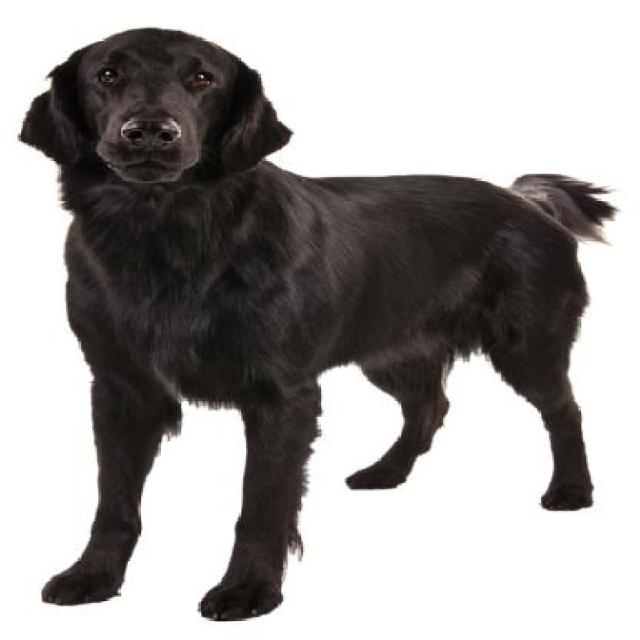animals: (21, 14, 640, 640)
